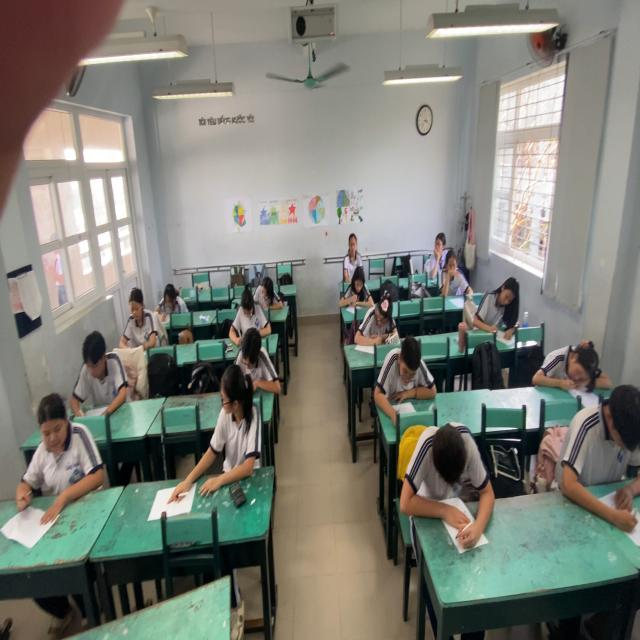cheating: (200, 367, 266, 485)
not_cheating: (564, 378, 640, 506), (408, 416, 484, 508), (22, 395, 94, 474), (68, 326, 129, 416), (529, 344, 615, 384), (383, 329, 432, 395), (236, 326, 278, 395), (113, 288, 158, 343), (360, 294, 399, 354), (477, 278, 522, 322), (152, 275, 193, 322), (238, 284, 270, 336), (440, 247, 471, 298), (342, 257, 372, 308), (339, 225, 370, 274), (423, 229, 448, 278), (253, 274, 284, 312)
